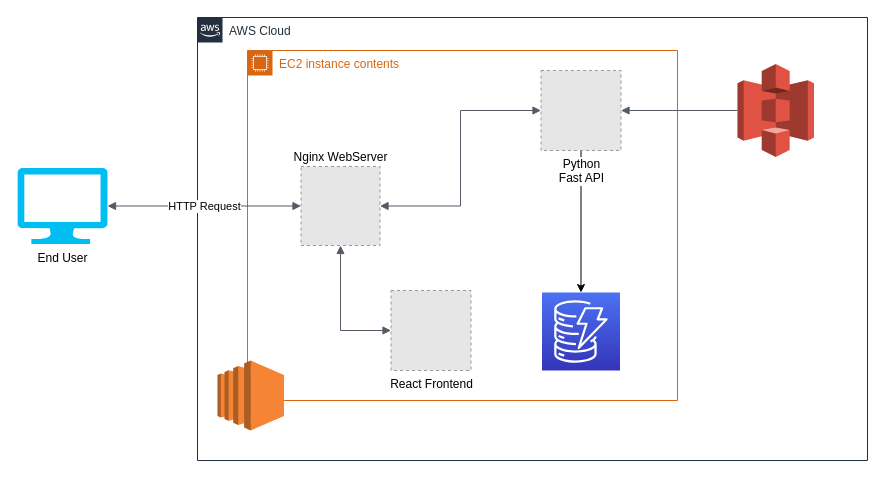
Image size: 885x486. Some labels were removed from this diagram. Grey dashed boxes stand in for pictures. The shapes that lost their labels are listed below. From the top down, each one's box as (x1, y1, x2, y2) in pixels, then its label:
(736, 63, 814, 157): S3 Bucket Storing Models and Dataset
(541, 292, 620, 370): Postgres Database
(216, 360, 284, 430): EC2 Instance
